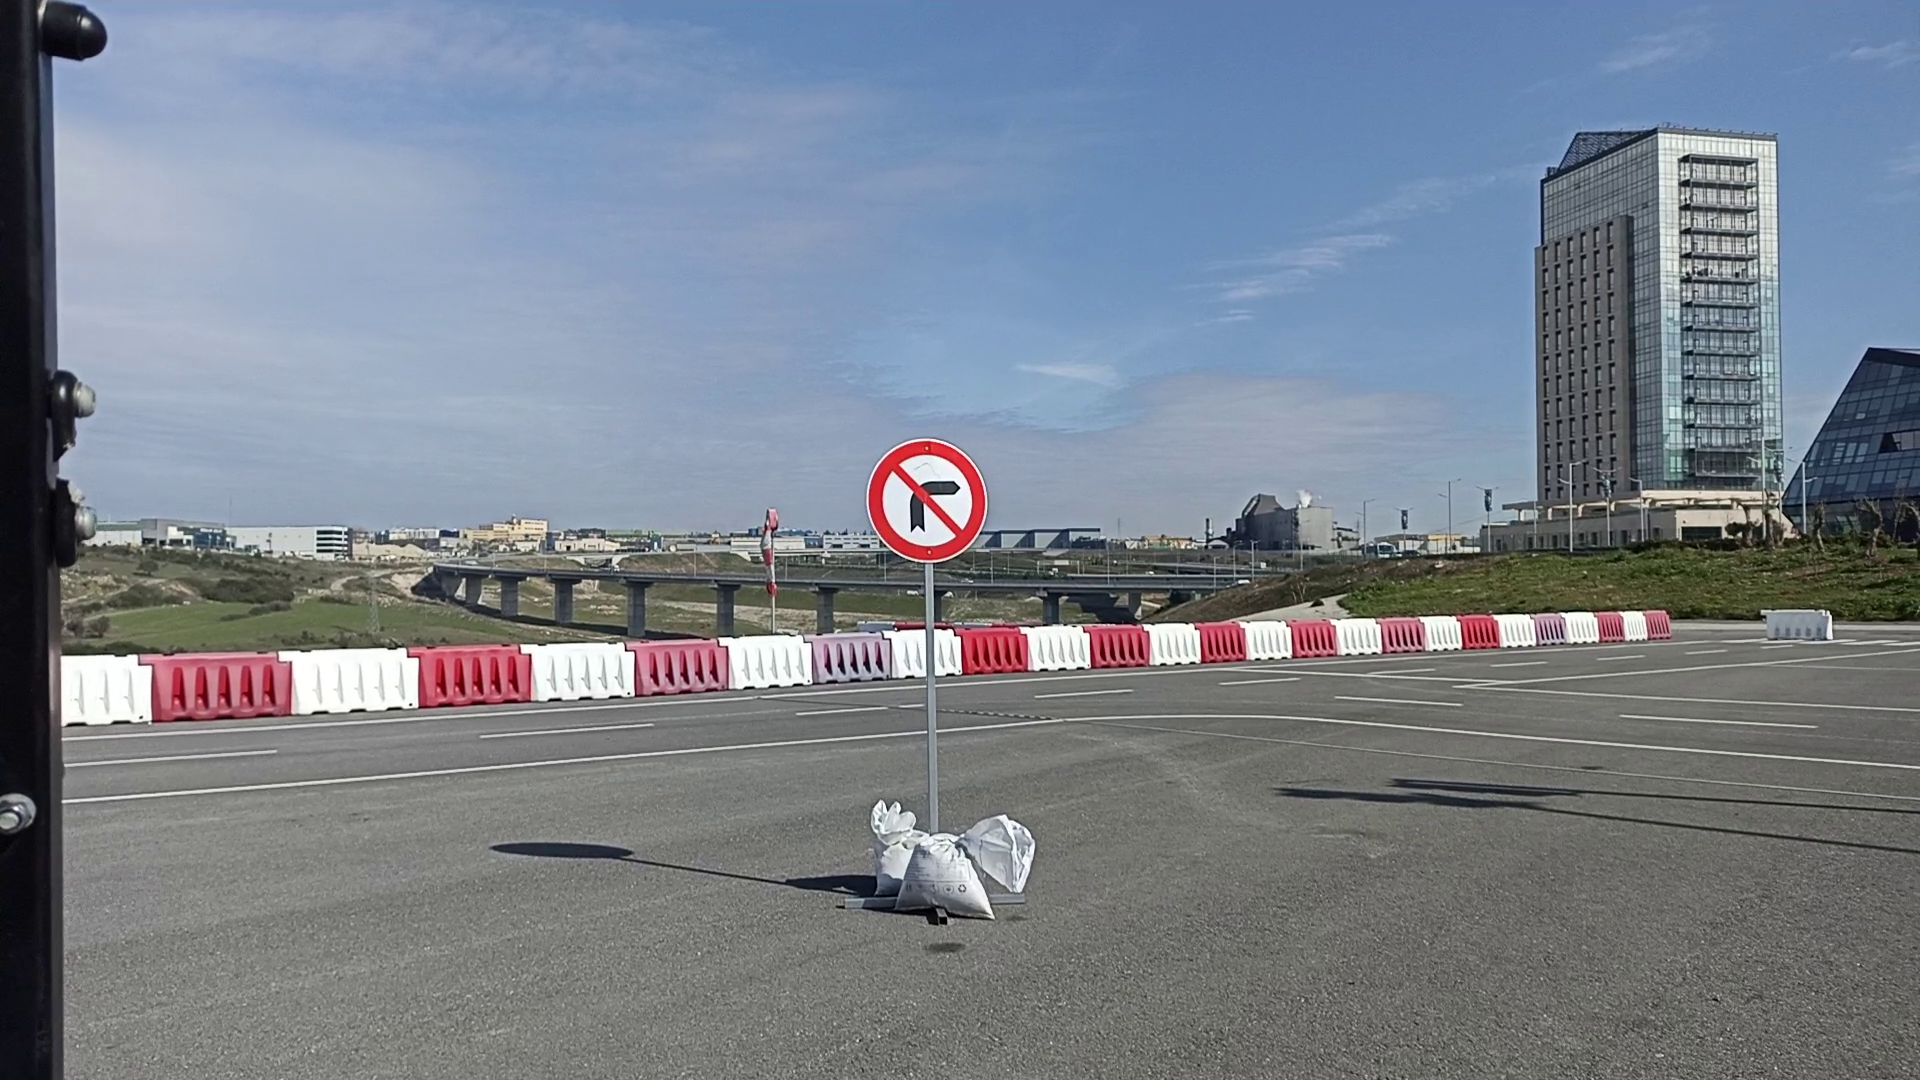noleftturn: (864, 435, 989, 564)
